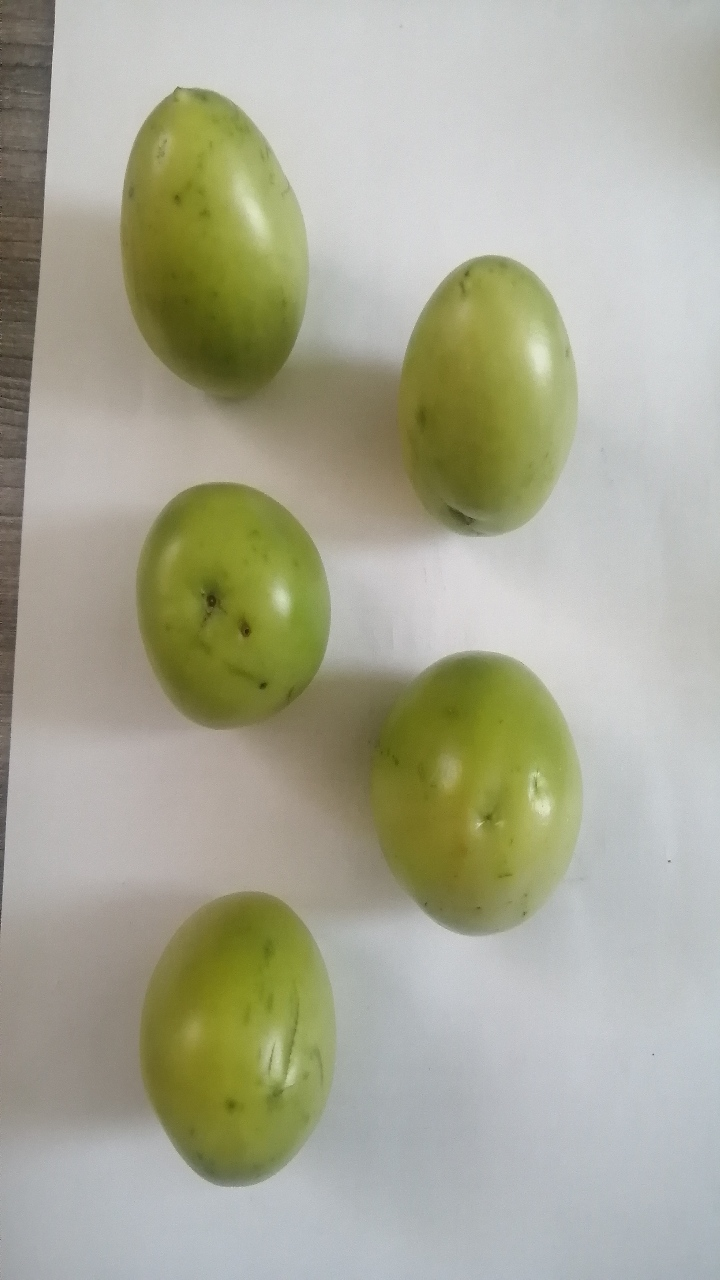tomateVerde: (95, 62, 331, 419), (357, 635, 603, 966), (372, 231, 601, 559), (120, 879, 354, 1197), (117, 455, 354, 752)
